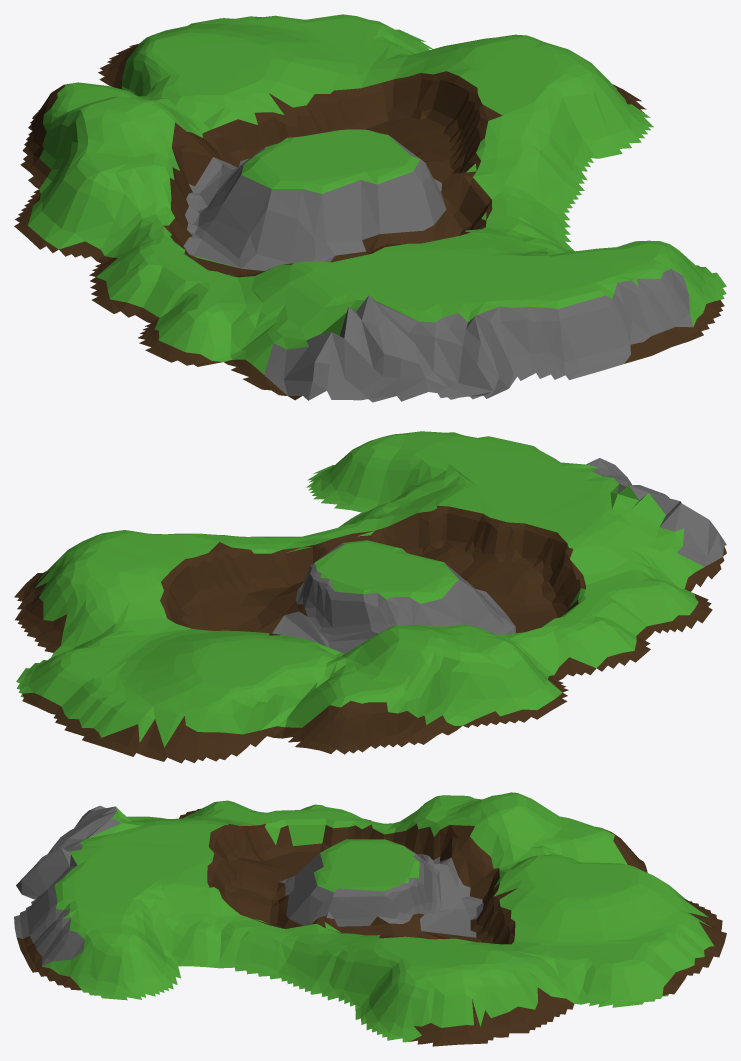
Rendered from Island3.glb.
3 views of the same model, one above another, from view 1: azimuth 30°, elevation 25°; view 2: azimuth 150°, elevation 25°; view 3: azimuth 270°, elevation 25° (orthographic). The views are drawn at different scales.
Parts seen in each view (by area): view 1: Lake; view 2: Lake; view 3: Lake.
Part boxes in pixels (box(x1,y1,x2,y2)): Lake: box(14, 14, 726, 402); Lake: box(14, 431, 726, 763); Lake: box(14, 792, 726, 1046).
Size of the model in its own units: 7.65 by 0.9287 by 9.59.
